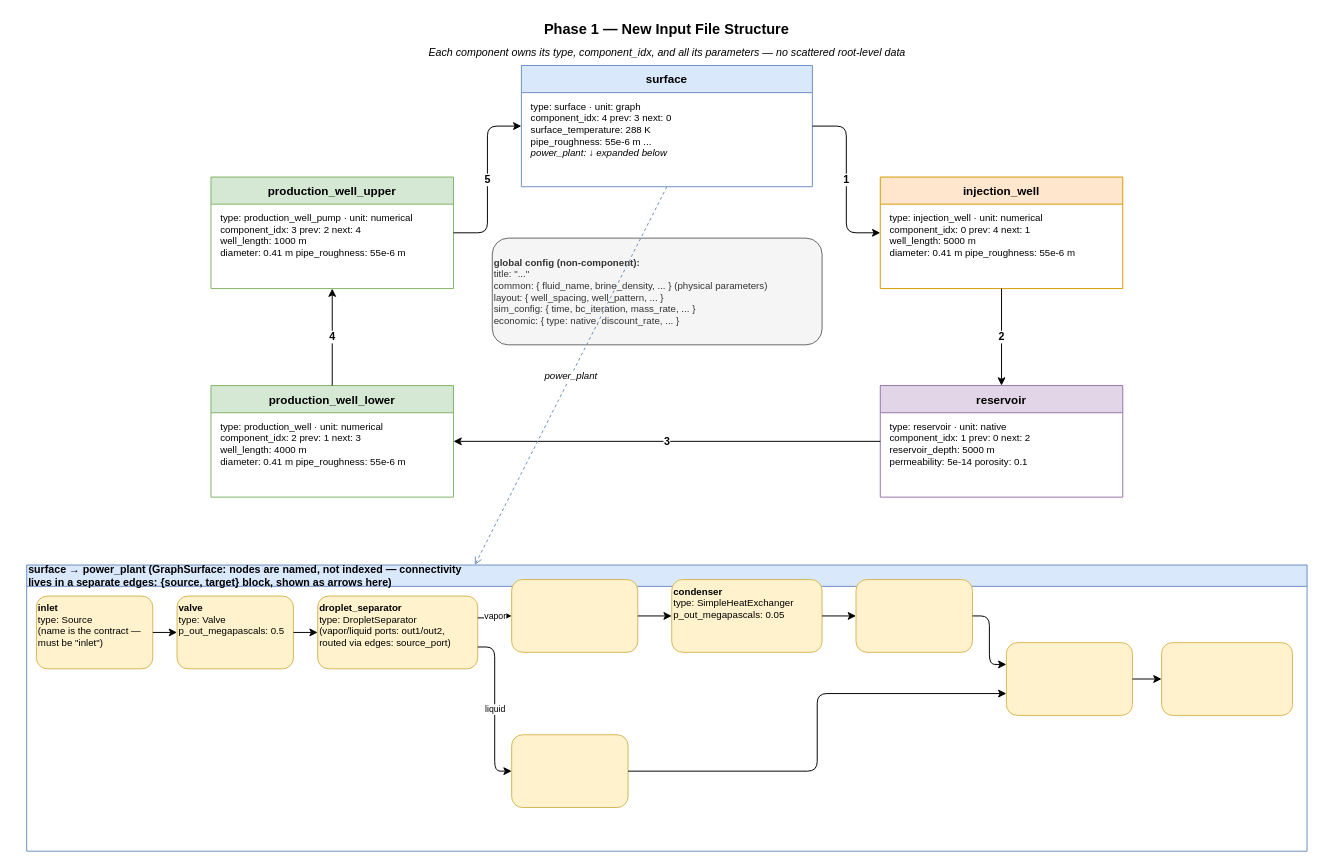
Some shapes in this 1333 by 868 pixel diagram are drawn without their labels. Each missing label, with the centre of its shape:
mixer type: Merge: [1068,678]
outlet type: Sink (name is the contract — must be "outlet"): [1227,678]
pump type: Compressor role: net_electric efficiency: 1.0: [913,615]
pump2 type: Compressor role: net_electric efficiency: 1.0: [569,771]
turbine type: Turbine role: net_electric p_out_megapascals: 0.05: [574,615]
